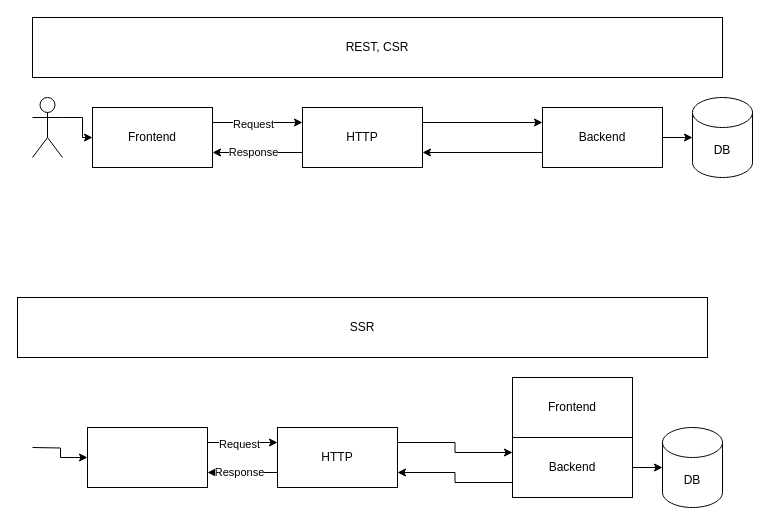
Some shapes in this 770 by 525 pixel diagram are drawn without their labels. Each missing label, with the centre of its shape:
"Browser" belongs at point 147,457.
"User" belongs at point 47,127.
